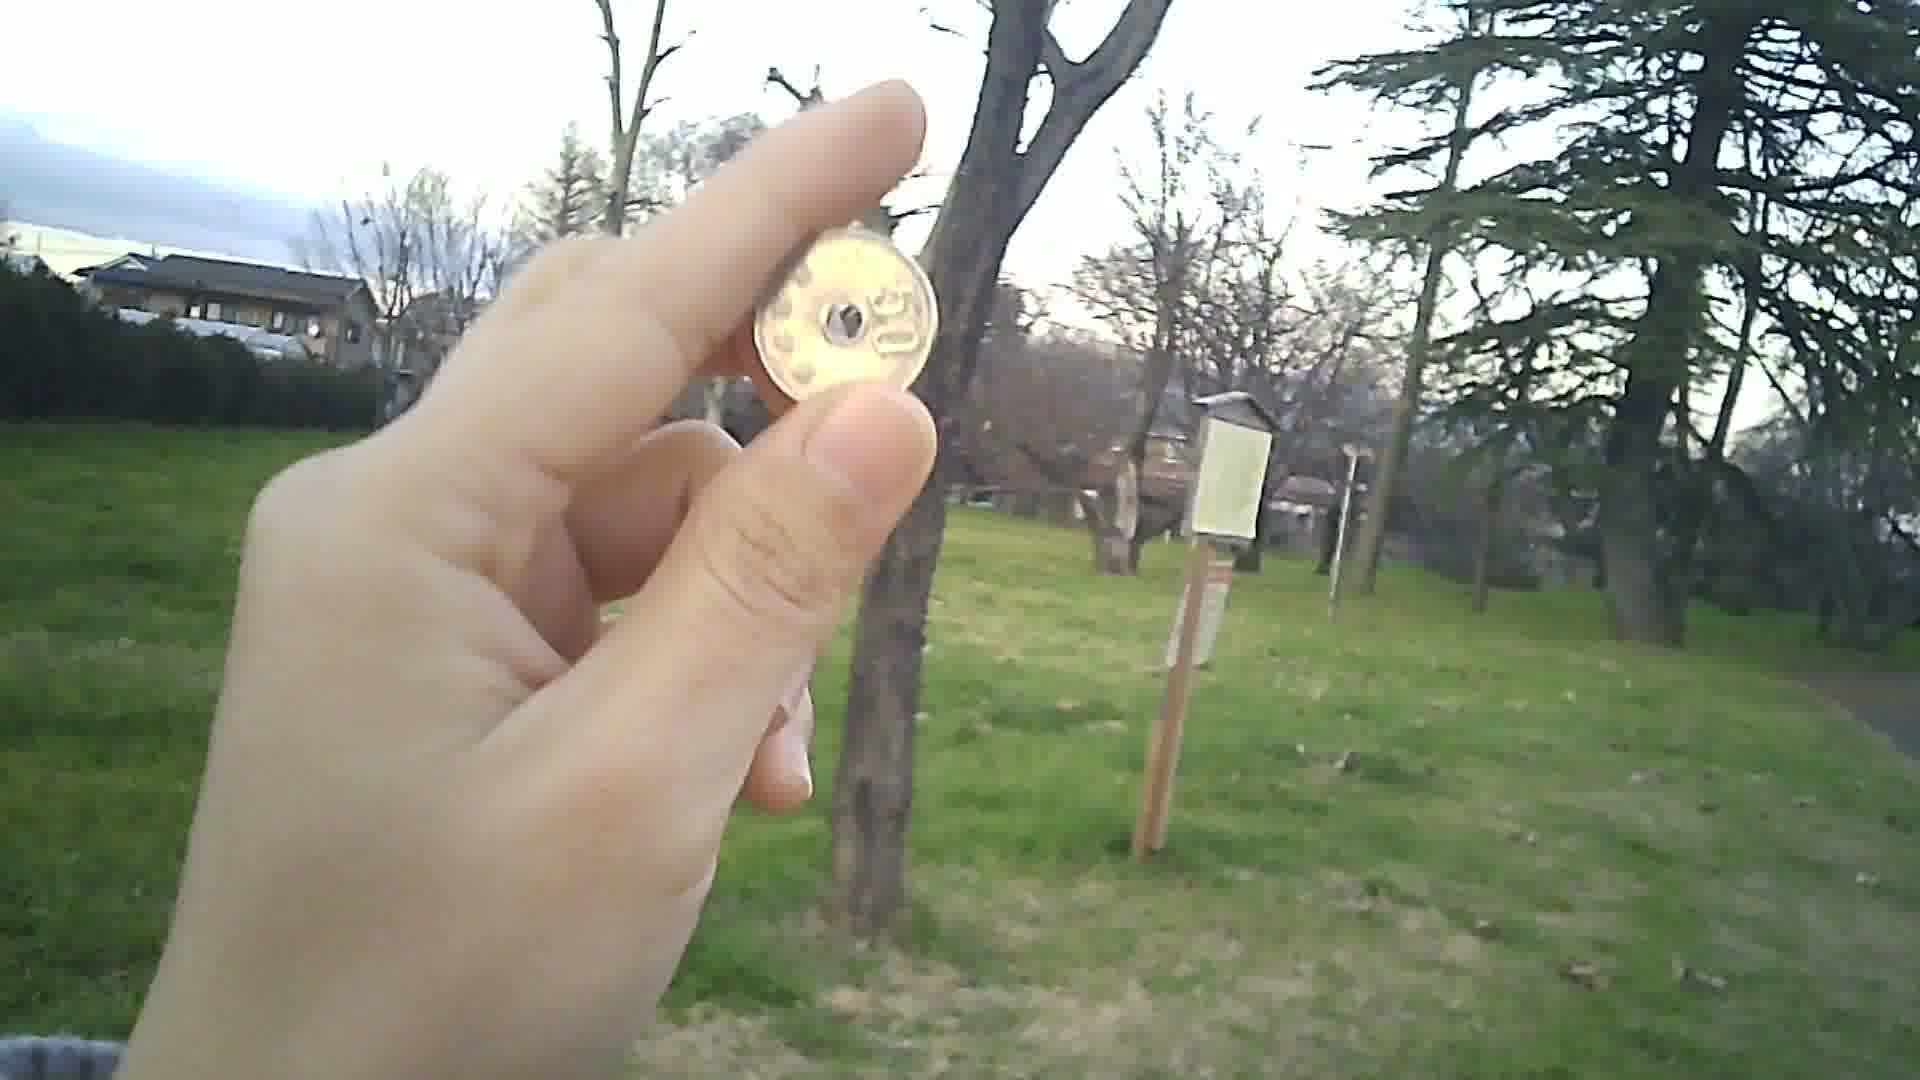50 Yen: (741, 218, 942, 418)
